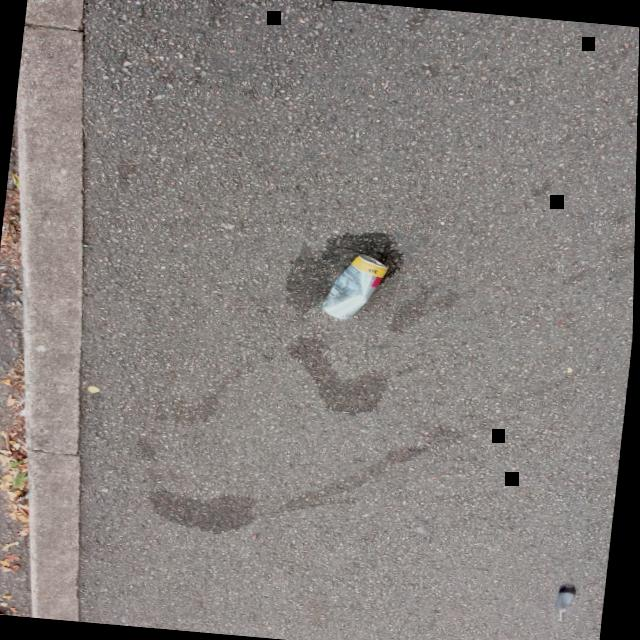Drink can: (323, 254, 390, 319)
Pop tab: (369, 256, 379, 264)
